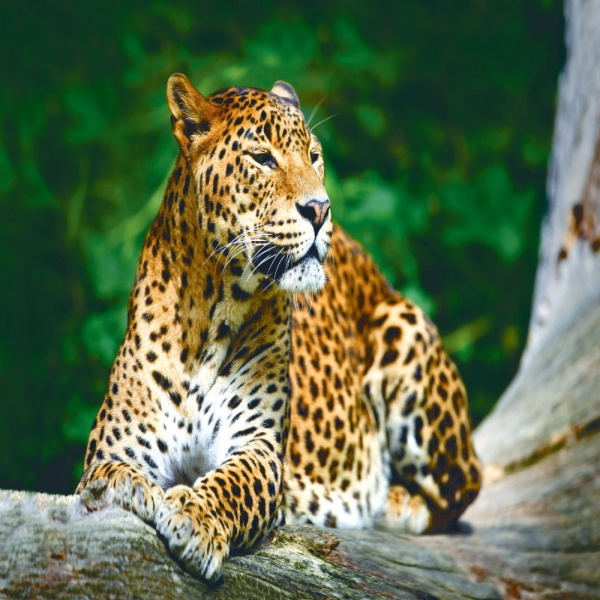Leopard: (77, 63, 488, 582)
